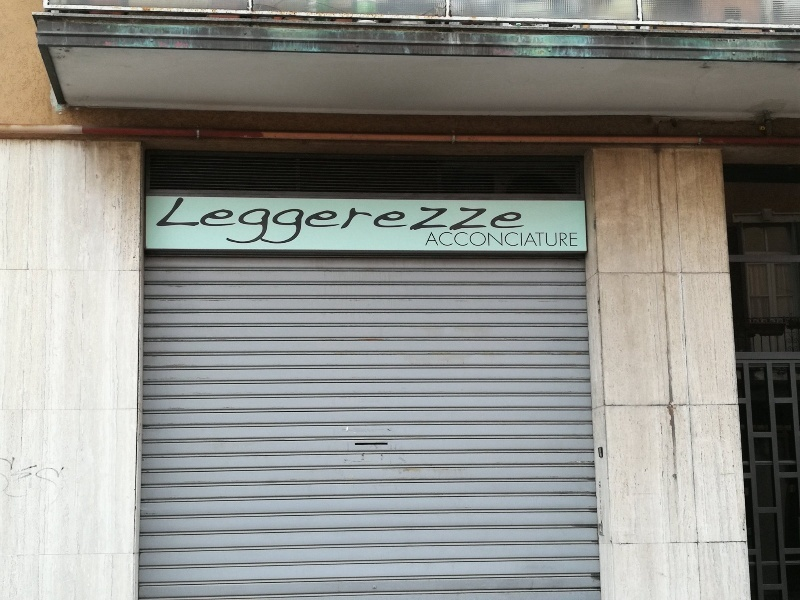text: (177, 197, 192, 246), (193, 197, 208, 246), (209, 197, 224, 246), (225, 197, 240, 246), (241, 197, 256, 246), (257, 197, 272, 246), (273, 197, 288, 246), (289, 197, 304, 246), (305, 197, 320, 246), (321, 197, 336, 246), (337, 197, 352, 246), (353, 197, 368, 246), (369, 197, 384, 246), (385, 197, 400, 246), (401, 197, 416, 246), (417, 197, 432, 246), (433, 197, 448, 246), (449, 197, 464, 246), (465, 197, 480, 246), (481, 197, 496, 246), (497, 197, 512, 246), (513, 197, 526, 246), (433, 231, 448, 247), (449, 231, 464, 247), (465, 231, 480, 247), (481, 231, 496, 247), (497, 231, 512, 247), (513, 231, 528, 247), (529, 231, 544, 247), (545, 231, 560, 247), (561, 231, 576, 247), (577, 231, 579, 247), (431, 231, 432, 247)
